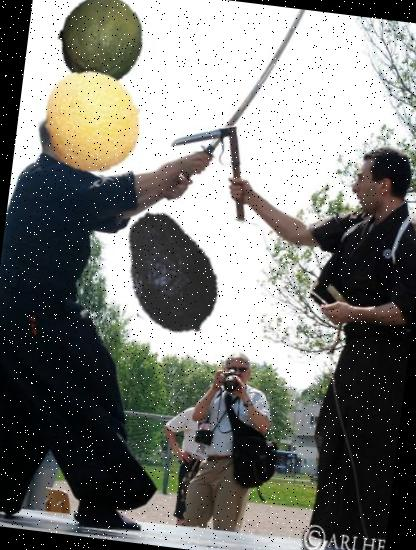Avocado: (100, 200, 244, 344)
Cantaloupe: (36, 63, 151, 178)
Limes: (49, 0, 152, 92)
